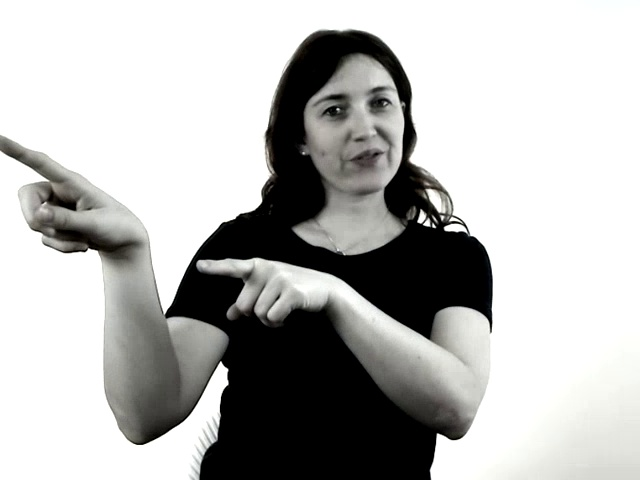go: (1, 135, 338, 357)
